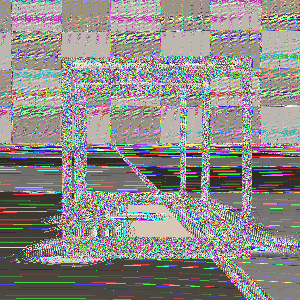Rack: (59, 52, 253, 260)
